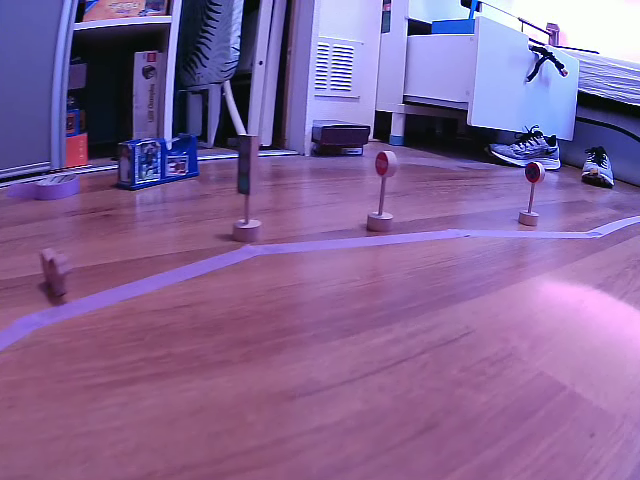groenlicht: (236, 135, 259, 196)
stopbord: (375, 152, 393, 176)
